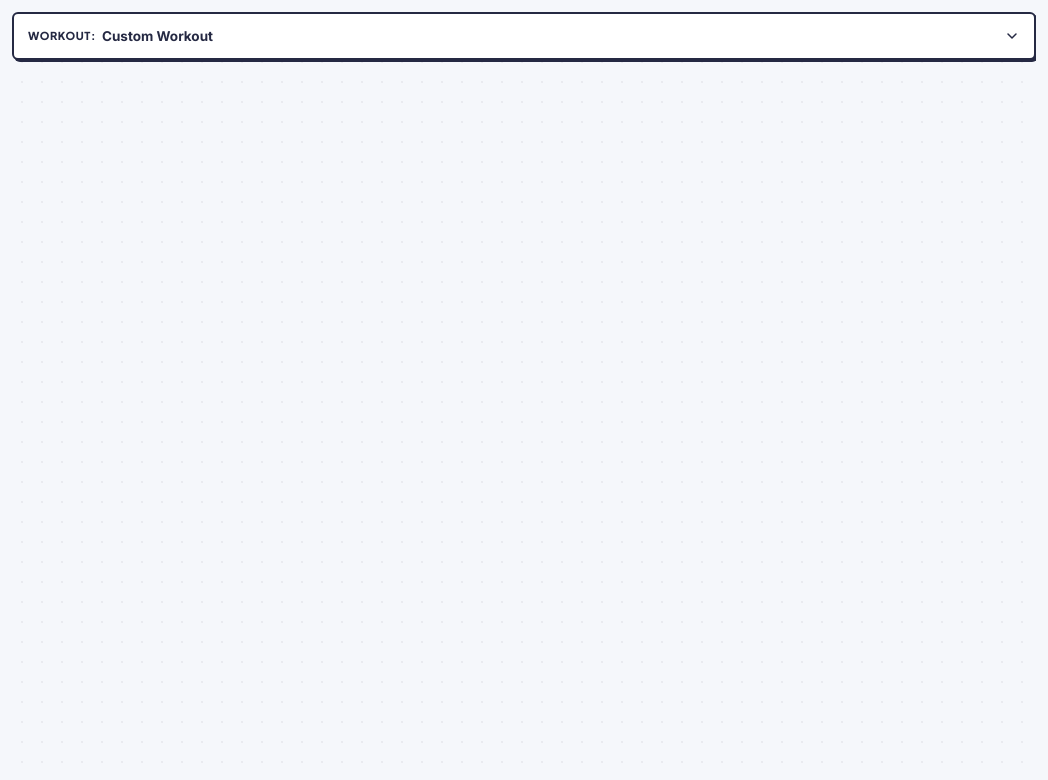
FilterSelect Component & Option Normalization › safely handles duplicate labels with different IDs without key collision warnings
Click the button "Workout: Custom Workout" at (59, 35), box [12,12,1036,60]
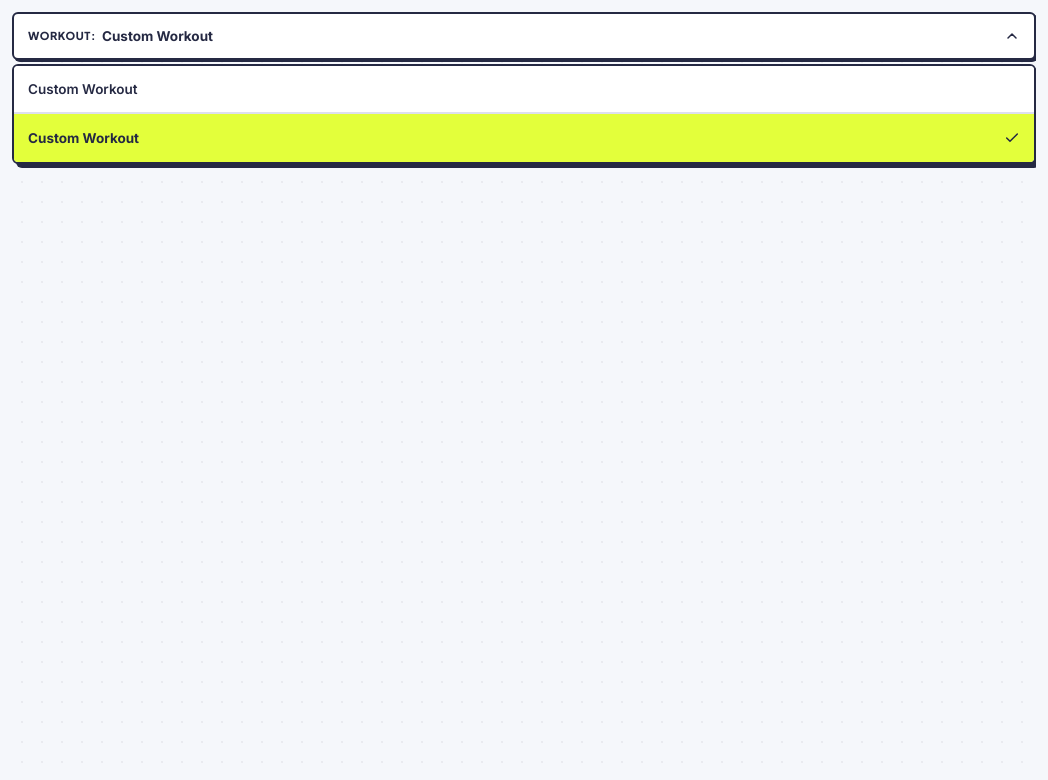
Now the number of options "Custom Workout" is 2, box [14,66,1034,114]; [14,114,1034,162]
